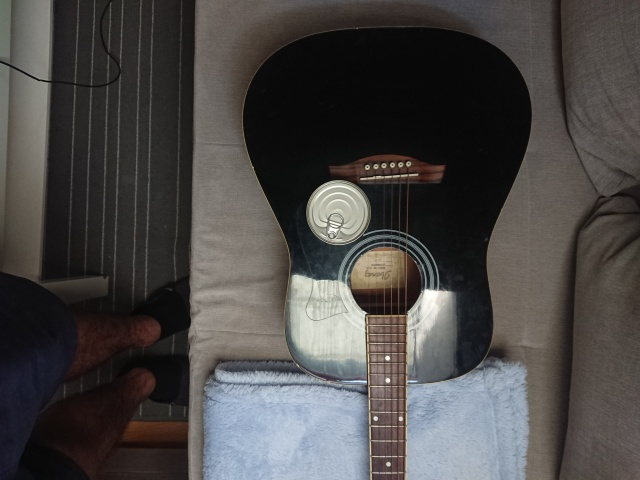Giana Tuna Salad Mexico 185g: (303, 178, 374, 247)
